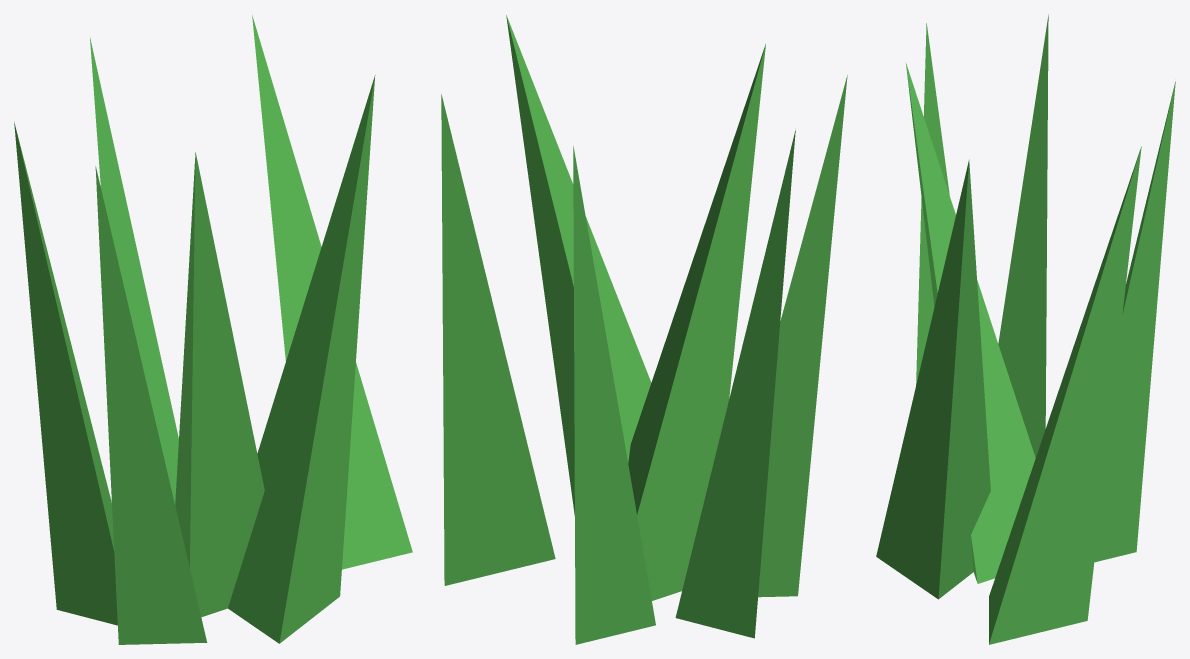
Rendered from grass.glb.
3 views of the same model, side by side, from view 1: azimuth 30°, elevation 25°; view 2: azimuth 150°, elevation 25°; view 3: azimuth 270°, elevation 25° (orthographic). The views are drawn at different scales.
Parts seen in each view (by area): view 1: Cone.002, Cone.005, Cone.003, Cone.001, Cone.004, Cone; view 2: Cone.005, Cone.004, Cone.001, Cone, Cone.003, Cone.002; view 3: Cone.004, Cone.002, Cone, Cone.005, Cone.001, Cone.003.
Boxes of the visible parts, bbox=[...] form: Cone.002: bbox=[228, 75, 375, 643]; Cone.005: bbox=[175, 152, 264, 617]; Cone.003: bbox=[95, 166, 207, 644]; Cone.001: bbox=[14, 121, 117, 625]; Cone.004: bbox=[252, 15, 412, 569]; Cone: bbox=[90, 37, 178, 504]; Cone.005: bbox=[628, 44, 765, 600]; Cone.004: bbox=[441, 94, 555, 585]; Cone.001: bbox=[675, 130, 795, 638]; Cone: bbox=[573, 146, 655, 644]; Cone.003: bbox=[758, 75, 847, 597]; Cone.002: bbox=[506, 15, 651, 515]; Cone.004: bbox=[989, 146, 1141, 644]; Cone.002: bbox=[876, 159, 990, 599]; Cone: bbox=[1094, 81, 1175, 562]; Cone.005: bbox=[905, 62, 1035, 583]; Cone.001: bbox=[998, 14, 1048, 457]; Cone.003: bbox=[916, 23, 949, 385].
Bounding box in the file's own units: 1.7 × 2.21 × 1.29.
